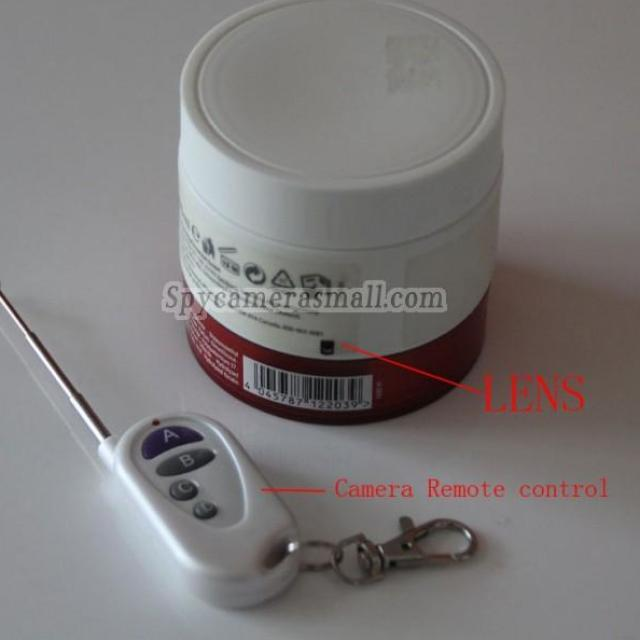hidden camera: (311, 328, 348, 371)
